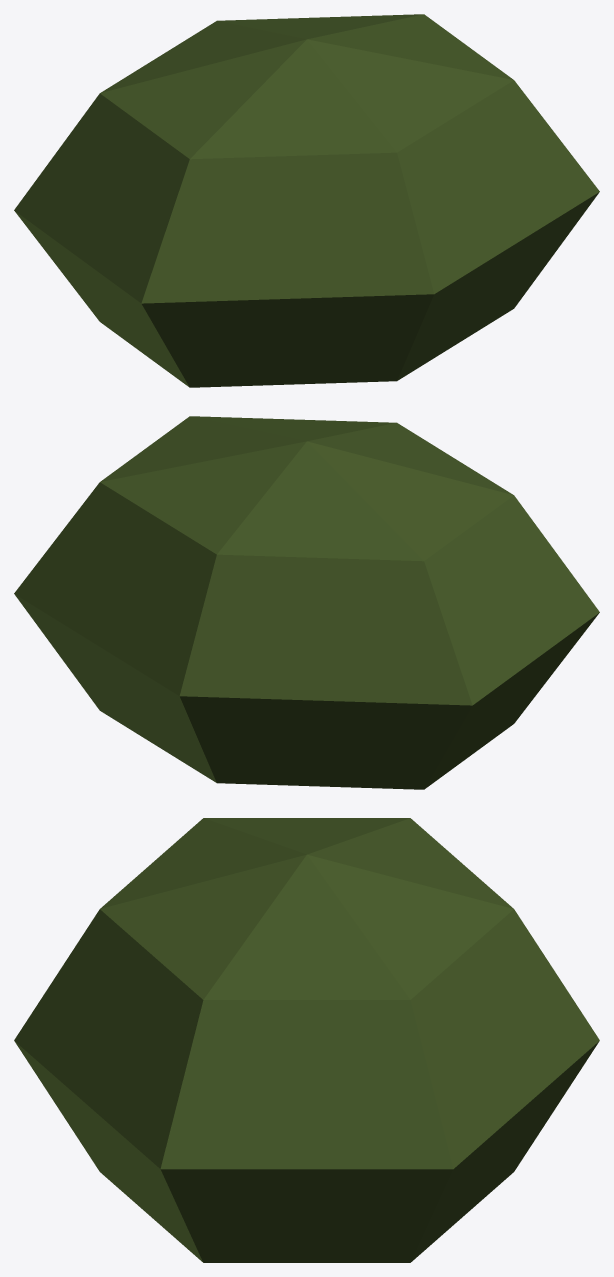
Rendered from bush.glb.
3 renders of one model, top to bottom at view 1: azimuth 30°, elevation 25°; view 2: azimuth 150°, elevation 25°; view 3: azimuth 270°, elevation 25°, orthographic. The views are drawn at different scales.
Visible parts, largest first — view 1: bush; view 2: bush; view 3: bush.
Part boxes in pixels (x1,y1,x2,y2): bush: [14, 14, 599, 387]; bush: [14, 416, 599, 789]; bush: [14, 818, 599, 1262].
Size of the model in its own units: 1.04 by 0.7 by 1.
